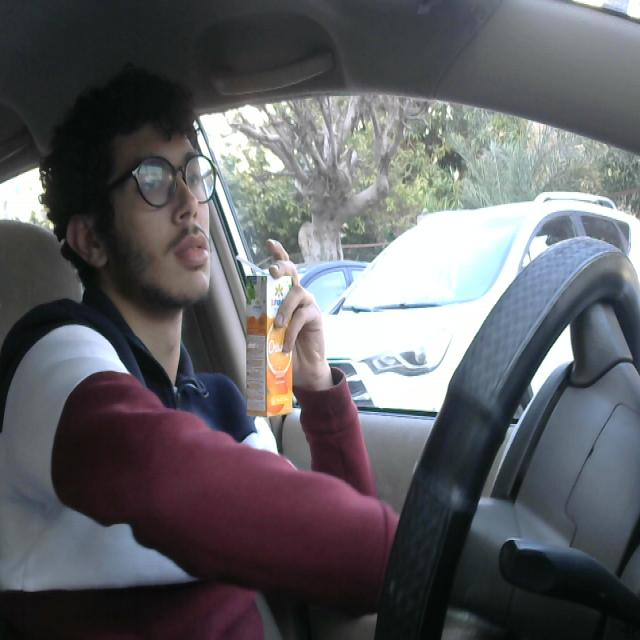drinking: (230, 248, 300, 422)
